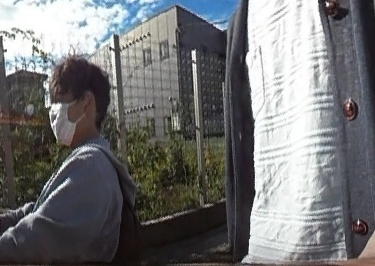person: (29, 57, 125, 266)
